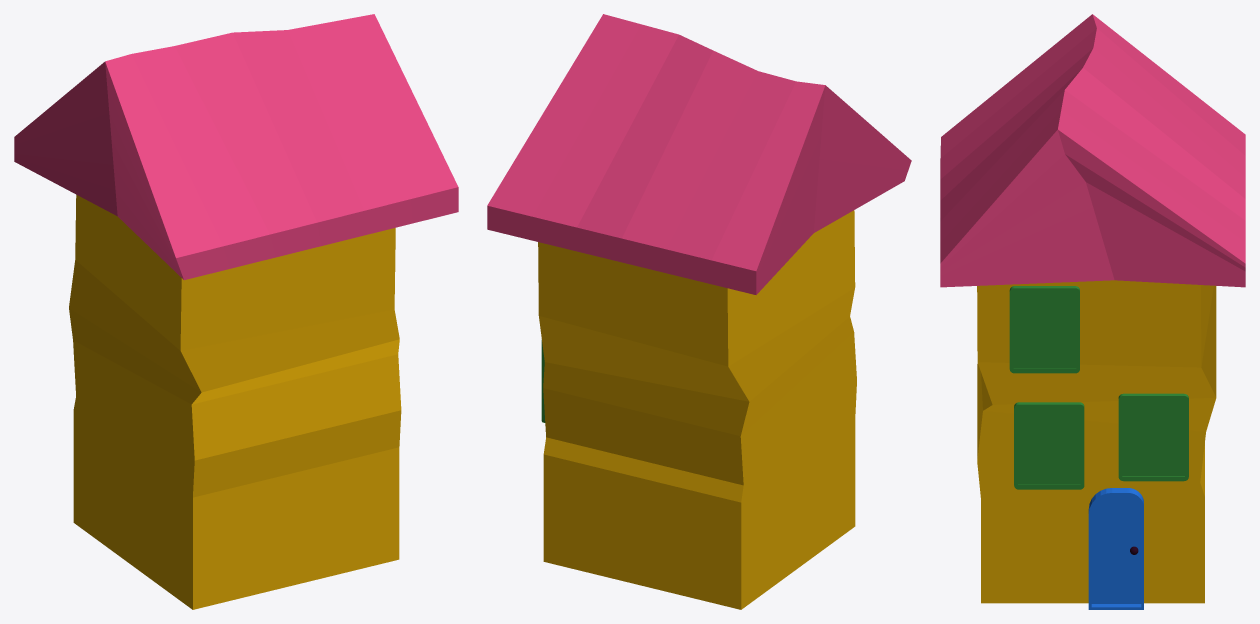
The model's file is house.glb.
3 views of the same model, side by side, from view 1: azimuth 30°, elevation 25°; view 2: azimuth 150°, elevation 25°; view 3: azimuth 270°, elevation 25° (orthographic). The views are drawn at different scales.
Parts seen in each view (by area): view 1: Cube; view 2: Cube; view 3: Cube.
Boxes of the visible parts, left/top/right/bottom form: Cube: left=14, top=14, right=458, bottom=609; Cube: left=487, top=14, right=911, bottom=609; Cube: left=940, top=14, right=1245, bottom=609.
Size of the model in its own units: 2.73 by 4.78 by 2.73.
